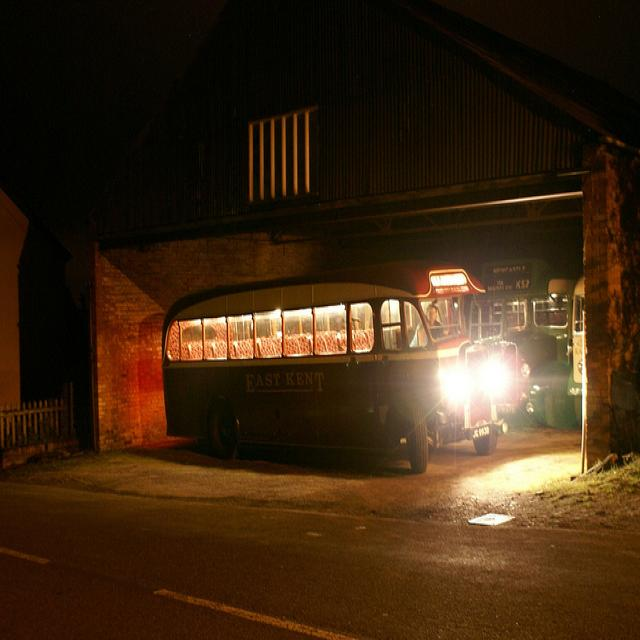Bus: (154, 260, 519, 481), (472, 203, 612, 452)
